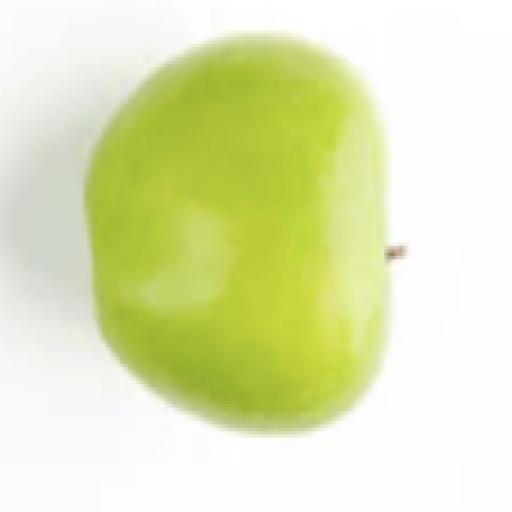apple: (87, 38, 388, 427)
